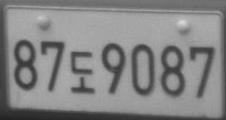0: (131, 42, 156, 96)
7: (189, 46, 215, 98), (40, 40, 65, 92)
8: (159, 43, 185, 97), (13, 38, 37, 90)
9: (100, 41, 126, 94)
도: (69, 51, 96, 94)
